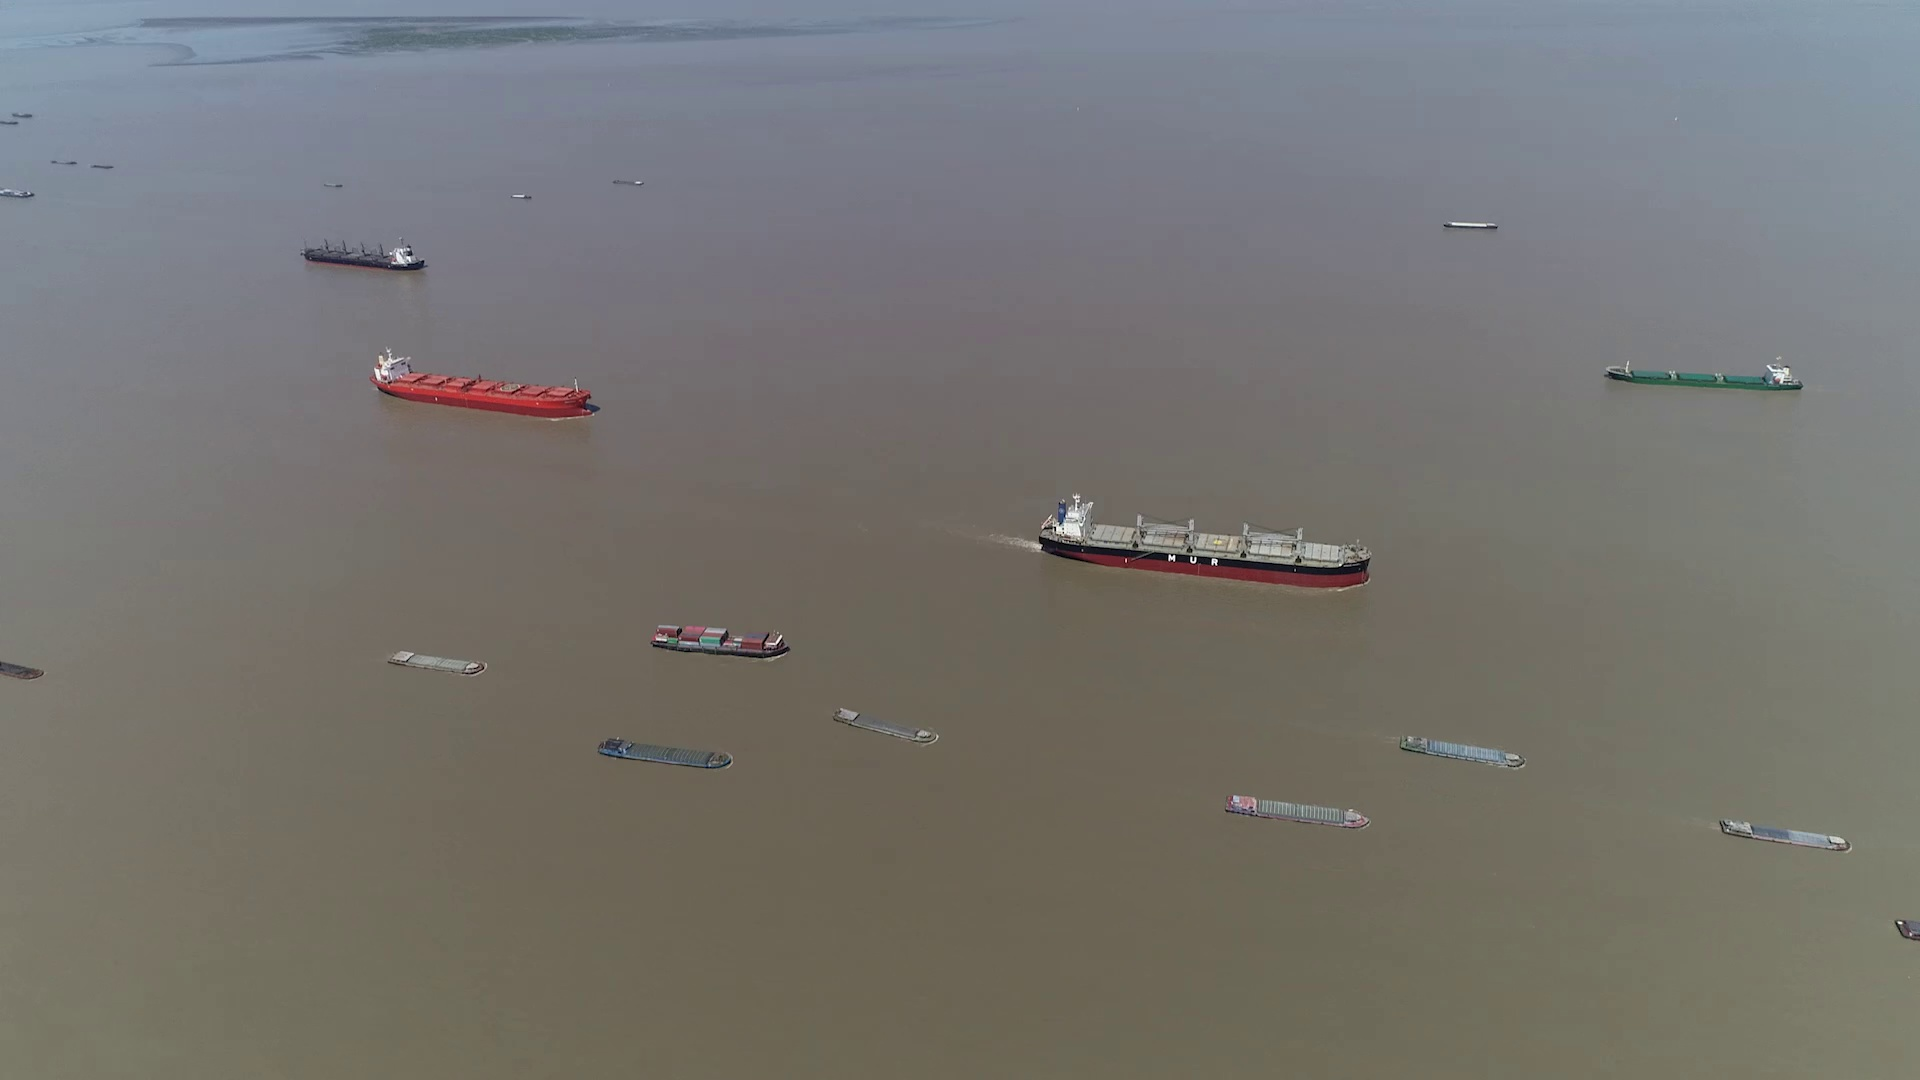ship: (1040, 495, 1369, 589), (368, 349, 593, 418), (1604, 357, 1809, 390), (618, 713, 770, 756), (1225, 793, 1369, 829), (651, 624, 791, 659), (593, 736, 732, 770), (1399, 733, 1523, 769), (1720, 818, 1851, 851), (833, 707, 945, 744), (302, 237, 427, 270), (389, 650, 484, 676), (0, 651, 44, 683), (1894, 915, 1919, 943), (1444, 220, 1497, 229), (0, 186, 33, 200)
